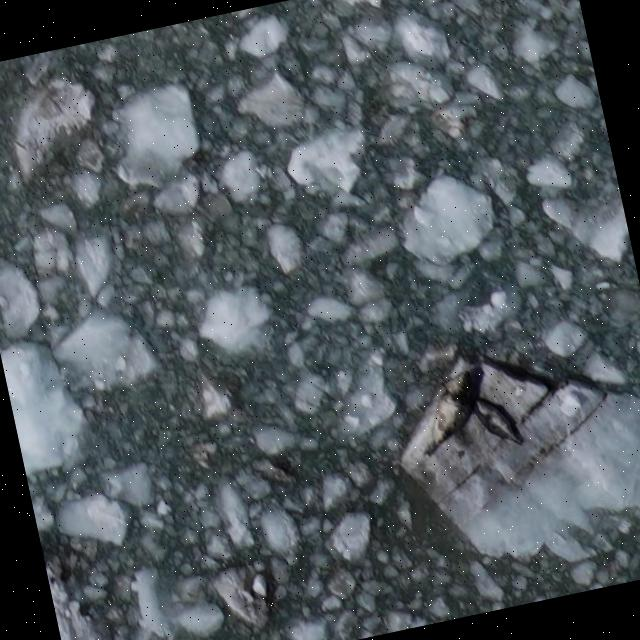seal: (412, 361, 485, 470), (464, 390, 529, 455)
